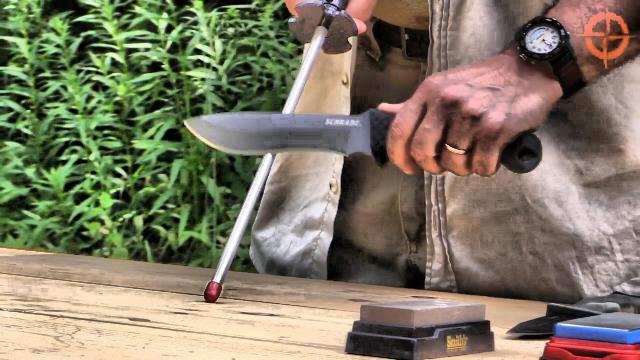knife: (175, 84, 547, 184)
